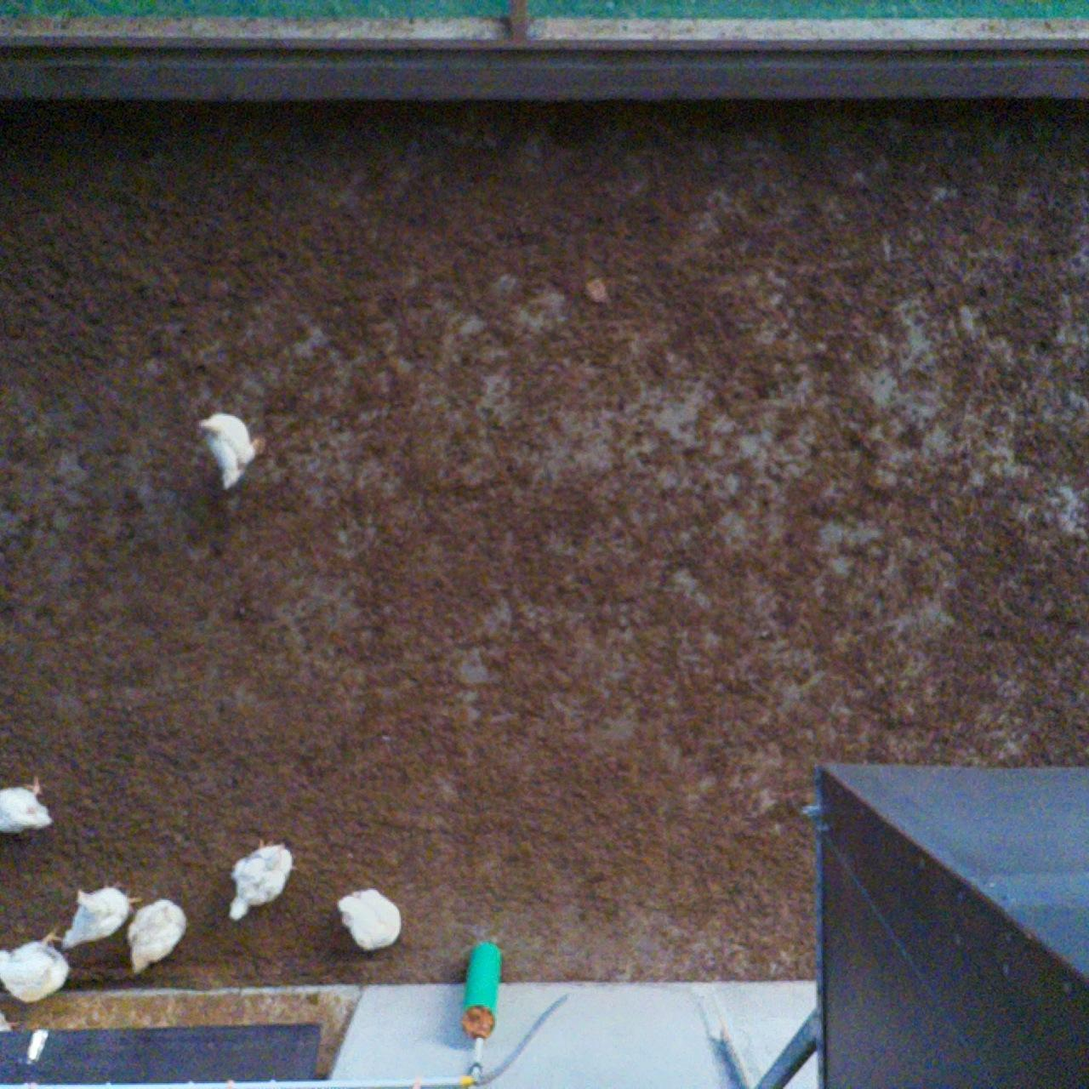chicken: (222, 833, 300, 928), (191, 405, 270, 496), (59, 881, 151, 954), (0, 923, 76, 1007), (118, 894, 191, 980), (329, 879, 409, 954), (0, 771, 54, 841)
